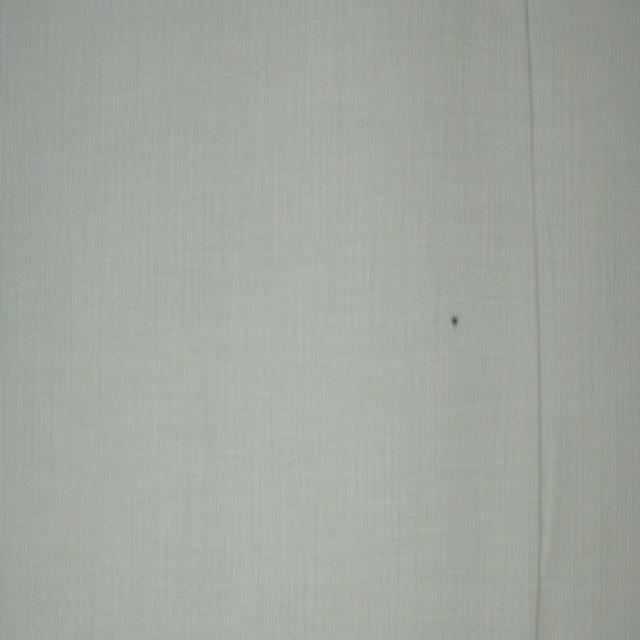dirty: (451, 314, 459, 328)
